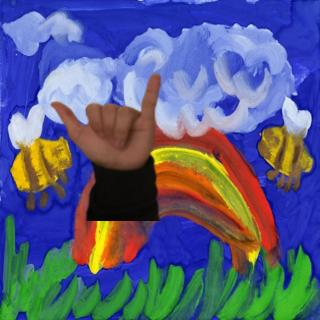HAVE: (41, 69, 169, 176)
